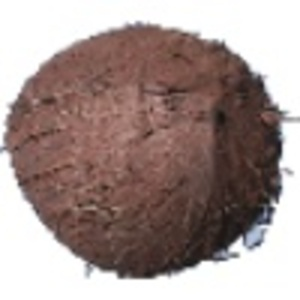coco: (1, 23, 289, 280)
